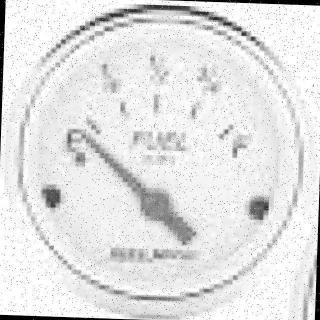gauge: (0, 0, 320, 320), (211, 114, 253, 150), (138, 186, 174, 224), (62, 118, 96, 152), (75, 125, 95, 147)
